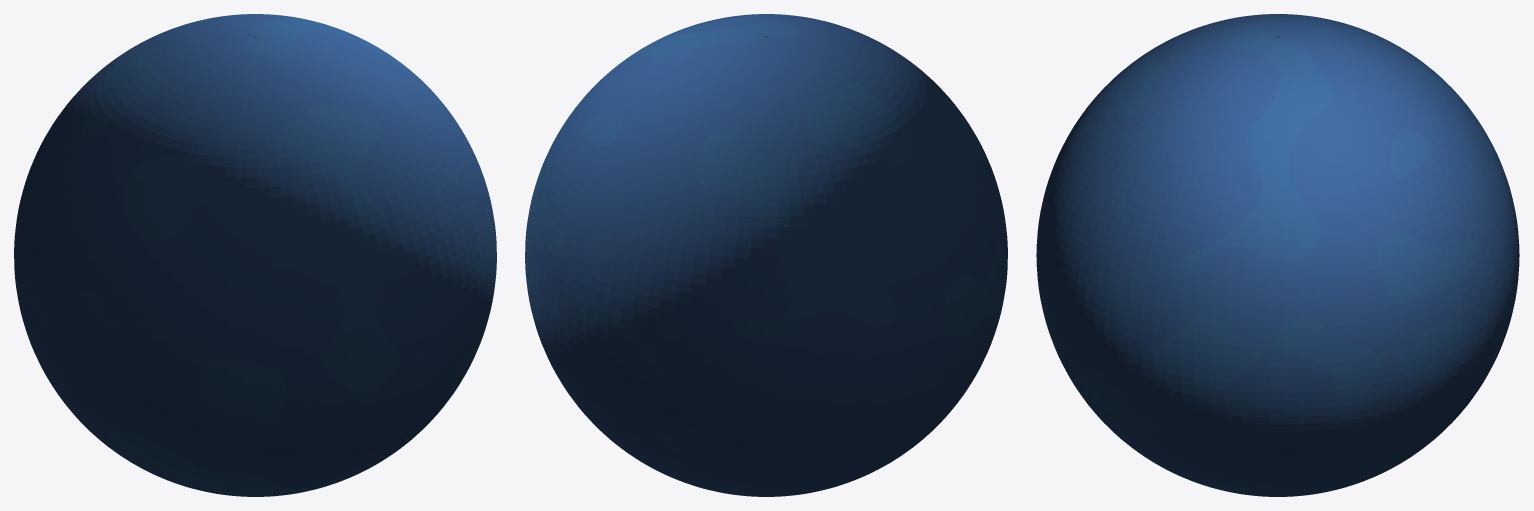
File: bakeTest.glb
3 renders of one model, left to right at view 1: azimuth 30°, elevation 25°; view 2: azimuth 150°, elevation 25°; view 3: azimuth 270°, elevation 25°, orthographic.
Parts seen in each view (by area): view 1: Sphere; view 2: Sphere; view 3: Sphere.
Part boxes in pixels (x1,y1,x2,y2): Sphere: (14,14,496,496); Sphere: (525,14,1007,496); Sphere: (1036,14,1519,496).
Bounding box in the file's own units: 3.38 × 3.38 × 3.38.
Materials: 1 (1 with a texture image).
